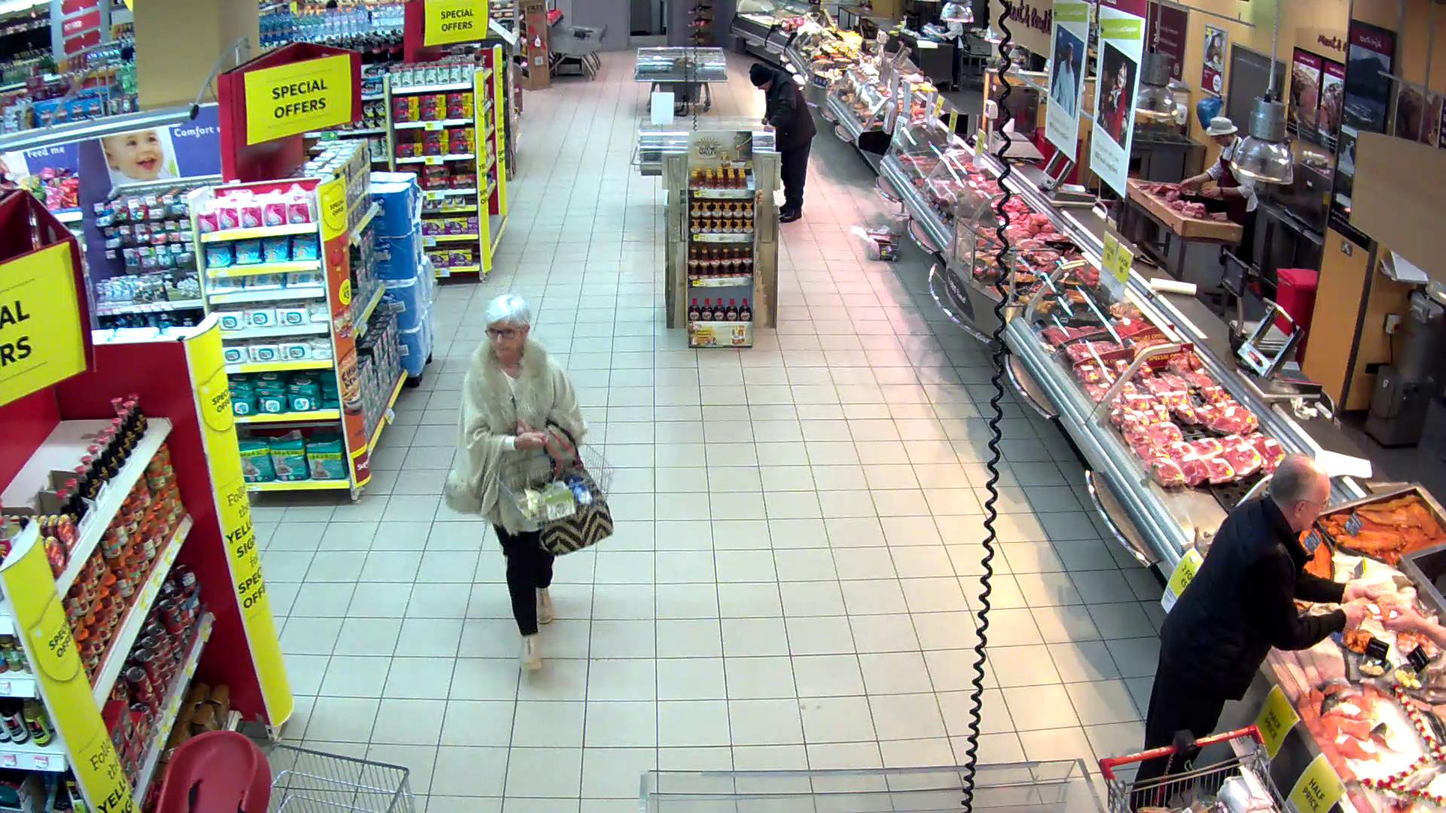backpack-or-handbag: (494, 441, 618, 522)
filled-shopping-bags: (538, 491, 615, 556)
person: (444, 295, 590, 671)
person-with-basket-trolly-and-backpack-handbag: (445, 294, 617, 670)
